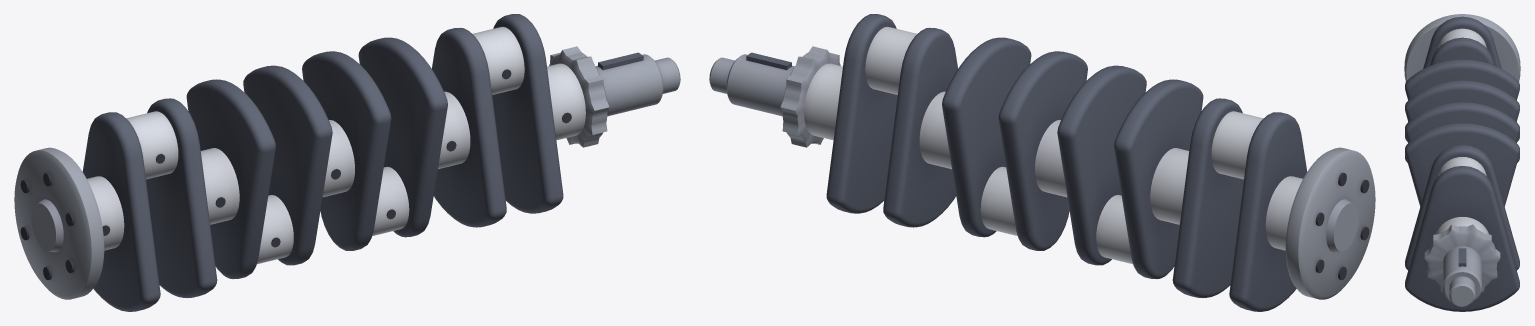
The model's file is crankshaft.glb.
3 renders of one model, left to right at view 1: azimuth 30°, elevation 25°; view 2: azimuth 150°, elevation 25°; view 3: azimuth 270°, elevation 25°, orthographic. The views are drawn at different scales.
Parts seen in each view (by area): view 1: crankshaft_body; view 2: crankshaft_body; view 3: crankshaft_body.
Part boxes in pixels (x1=…): crankshaft_body: x1=14, y1=14, x2=680, y2=311; crankshaft_body: x1=709, y1=14, x2=1375, y2=311; crankshaft_body: x1=1404, y1=14, x2=1520, y2=311.
Bounding box in the file's own units: 0.589 × 0.168 × 0.124.
1 material, 1 textured.
